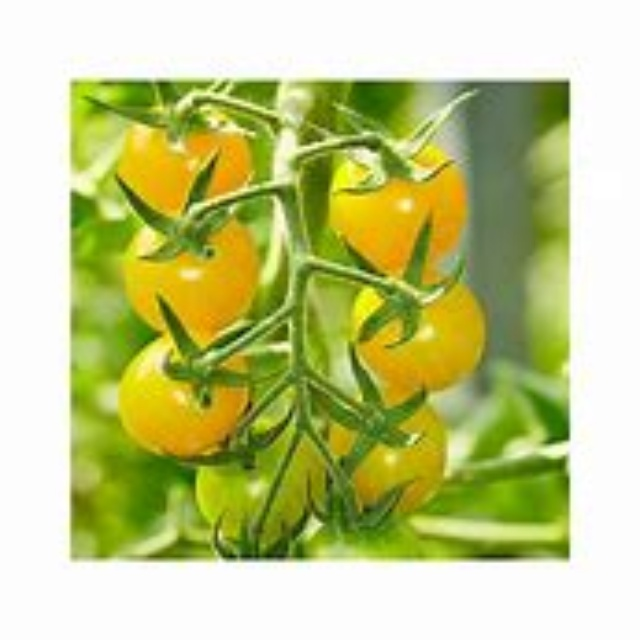tomato: (330, 141, 519, 282), (113, 332, 253, 459), (190, 430, 331, 553), (350, 273, 484, 399), (322, 391, 449, 522), (127, 220, 256, 333), (122, 105, 246, 213)
